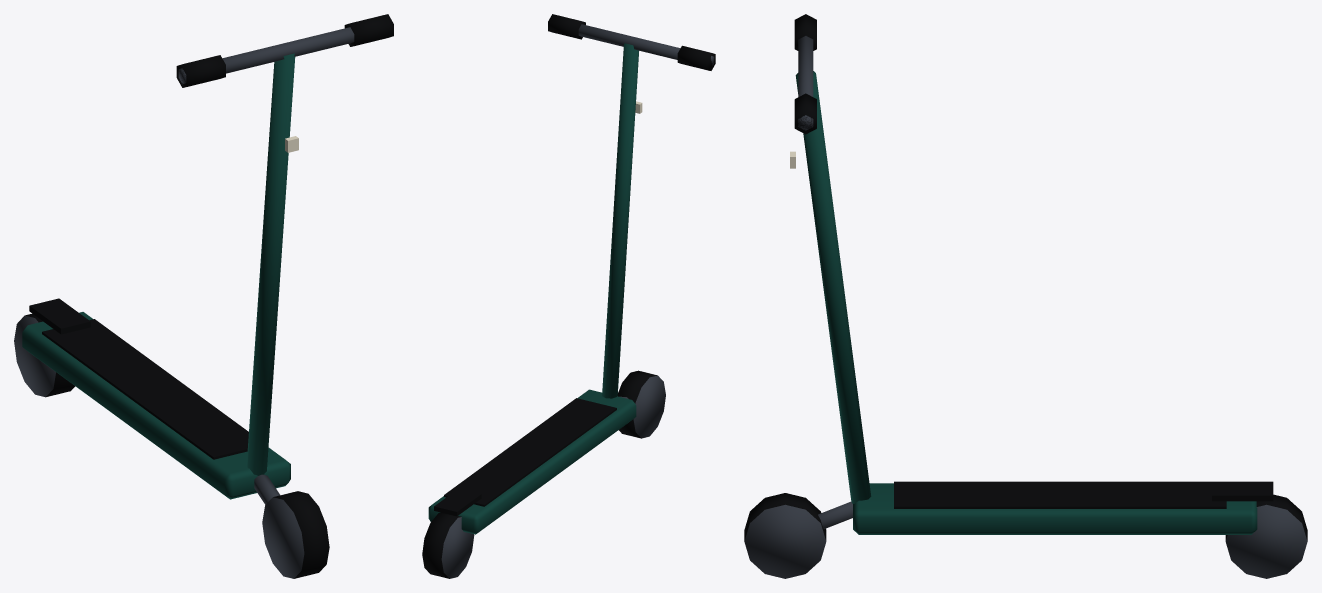
Rendered from trottinette.glb.
The picture shows the model from 3 angles, left to right: view 1: azimuth 30°, elevation 25°; view 2: azimuth 150°, elevation 25°; view 3: azimuth 270°, elevation 25°; orthographic projection. The views are drawn at different scales.
Visible parts, largest first — view 1: trottinette; view 2: trottinette; view 3: trottinette.
Boxes of the visible parts, box(x1,y1,x2,y2) form: trottinette: box(14, 14, 393, 578); trottinette: box(422, 14, 715, 578); trottinette: box(744, 14, 1307, 578).
Size of the model in its own units: 0.45 by 1.1 by 1.1.
1 material, 1 textured.
